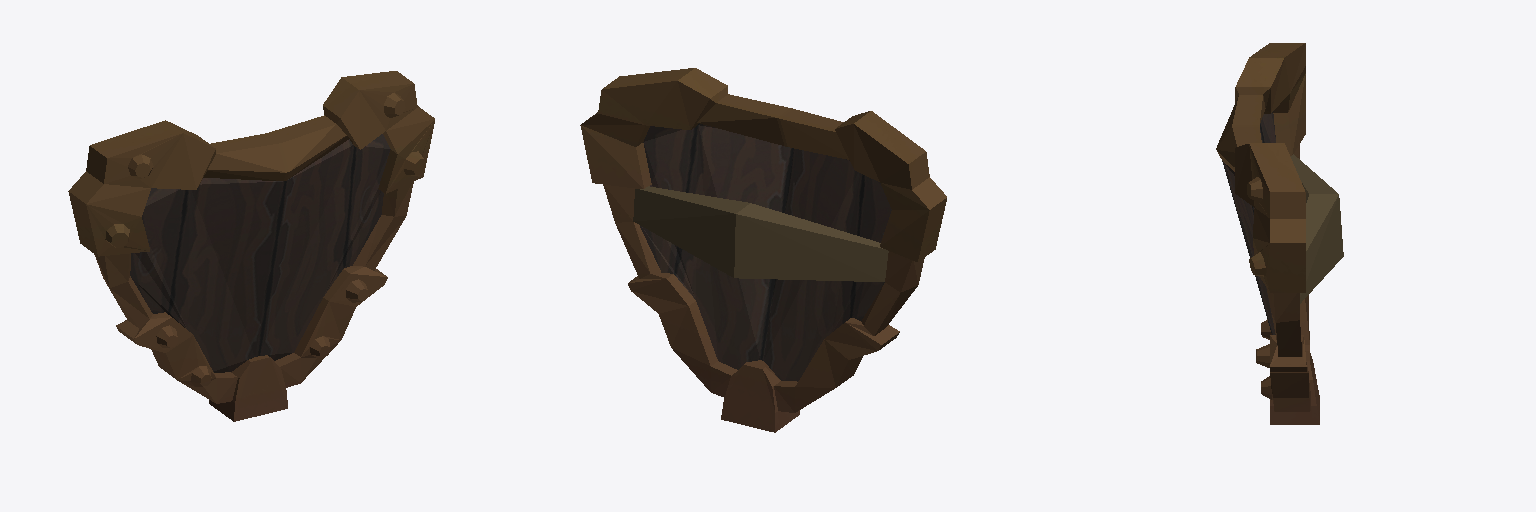
The picture shows the model from 3 angles: view 1: azimuth 30°, elevation 25°; view 2: azimuth 150°, elevation 25°; view 3: azimuth 270°, elevation 25°; orthographic projection.
Parts seen in each view (by area): view 1: Shield; view 2: Shield; view 3: Shield.
Part boxes in pixels (left/top/right/bottom): Shield: left=68, top=71, right=434, bottom=421; Shield: left=580, top=68, right=946, bottom=432; Shield: left=1216, top=43, right=1343, bottom=424.
Bounding box in the file's own units: 2.72 × 2.32 × 0.861.
Materials: 1 (1 with a texture image).